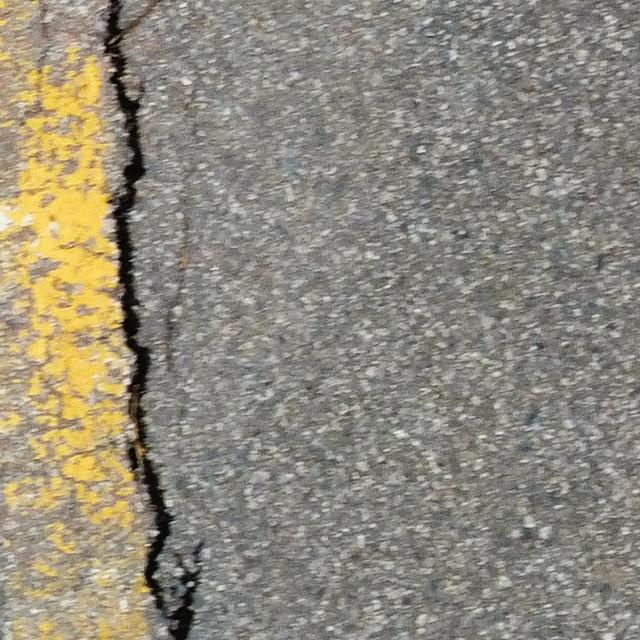LongitudinalCrack: (102, 1, 206, 640)
